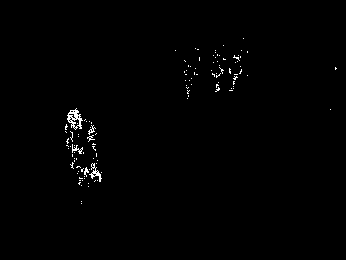person: (64, 110, 102, 186), (180, 48, 202, 99), (209, 50, 223, 91), (229, 54, 241, 94)
